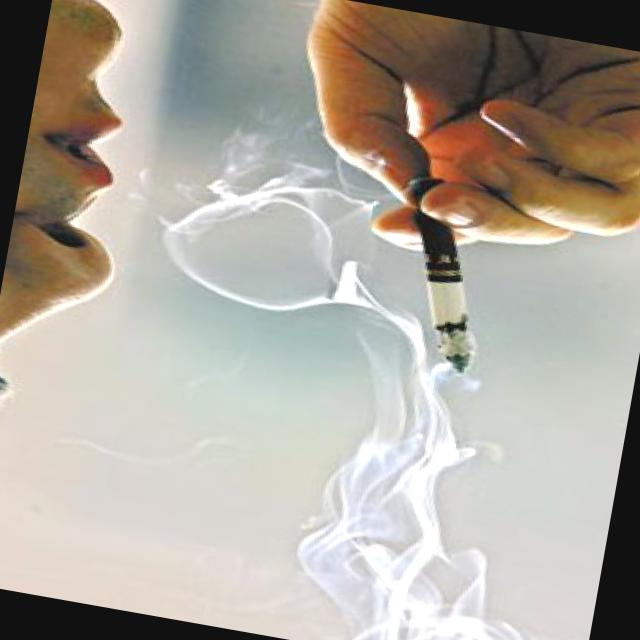smoke: (407, 281, 488, 378)
